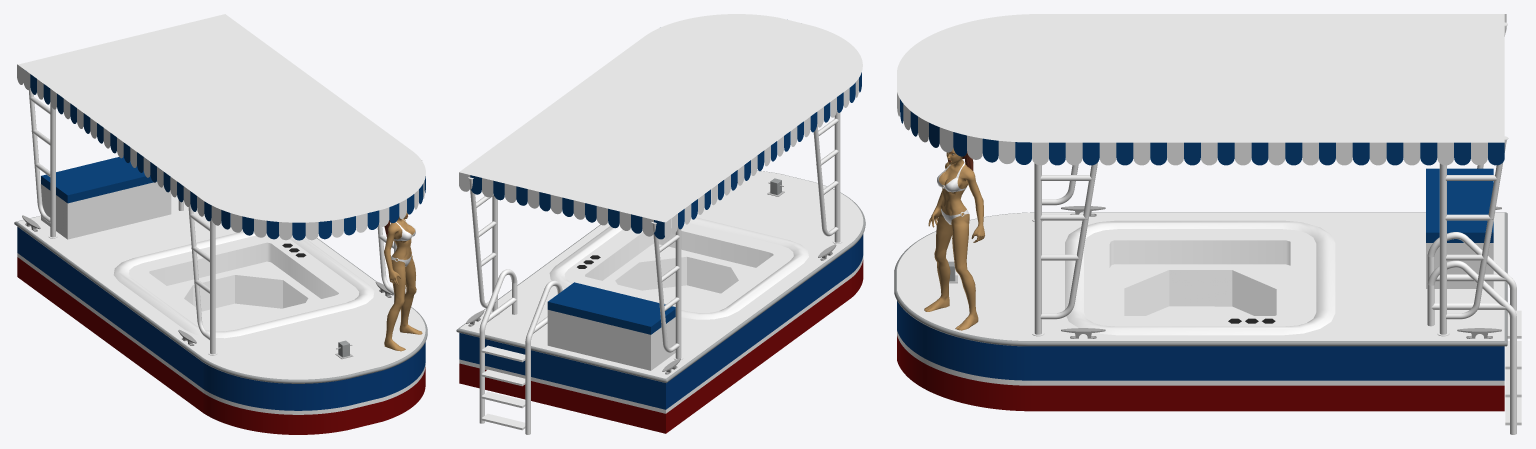
File: floating_hottub.obj
3 renders of one model, left to right at view 1: azimuth 30°, elevation 25°; view 2: azimuth 150°, elevation 25°; view 3: azimuth 270°, elevation 25°, orthographic. The views are drawn at different scales.
Visible parts, largest first — view 1: Group_001, Hot_Tub_Half_003, Hot_Tub_Half_001, Group_020, Lara_Croft___Tomb_Raider_Legend___Bikini_001, Group_017, Group_013, Group_011, Group_015, Component_1_038, Component_1_006, Component_1_034 (+4 smaller); view 2: Group_001, Hot_Tub_Half_001, Group_020, Hot_Tub_Half_003, Group_027, Group_021, Group_017, Group_009, Group_013, Group_011, Group_015, Group_007 (+7 smaller); view 3: Group_001, Hot_Tub_Half_001, Hot_Tub_Half_003, Group_020, Lara_Croft___Tomb_Raider_Legend___Bikini_001, Group_027, Group_009, Group_005, Group_021, Group_007, Group_003, Component_1_041 (+16 smaller).
Part boxes in pixels (x1,y1,x2,y2): Group_001: (14,14,427,434); Hot_Tub_Half_003: (196,231,374,321); Hot_Tub_Half_001: (113,244,296,338); Group_020: (41,156,171,239); Lara_Croft___Tomb_Raider_Legend___Bikini_001: (384,211,422,351); Group_017: (28,88,50,223); Group_013: (188,204,209,340); Group_011: (208,218,217,355); Group_015: (48,103,57,238); Component_1_038: (279,222,305,240); Component_1_006: (305,220,331,240); Component_1_034: (254,219,279,239); Group_001: (456,14,865,433); Hot_Tub_Half_001: (635,225,808,319); Group_020: (547,282,675,370); Hot_Tub_Half_003: (549,217,729,296); Group_027: (479,269,517,423); Group_021: (509,280,562,434); Group_017: (651,222,679,352); Group_009: (468,177,496,307); Group_013: (813,118,838,236); Group_011: (832,110,842,243); Group_015: (674,227,683,359); Group_007: (491,195,499,315); Group_001: (894,14,1507,411); Hot_Tub_Half_001: (1065,220,1335,315); Hot_Tub_Half_003: (1065,275,1335,335); Group_020: (1426,168,1493,288); Lara_Croft___Tomb_Raider_Legend___Bikini_001: (924,148,984,330); Group_027: (1427,260,1516,434); Group_009: (1445,136,1508,319); Group_005: (1040,162,1097,319); Group_021: (1424,232,1516,327); Group_007: (1437,163,1449,336); Group_003: (1032,163,1044,336); Component_1_041: (1234,142,1268,165).
Bounding box in the file's own units: 110 × 121 × 223.
